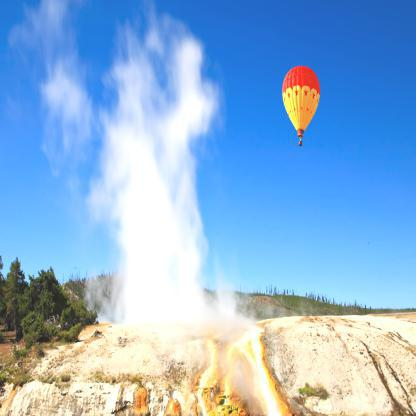smoke: (108, 68, 214, 319)
